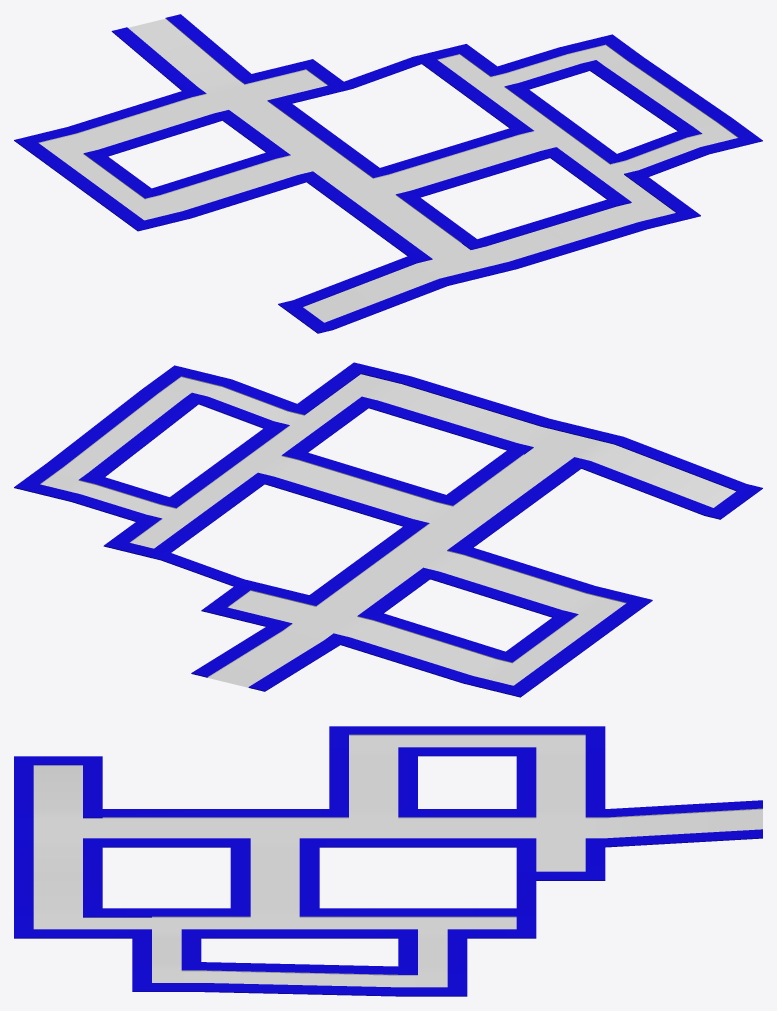
Rendered from Chao teste bake.fbx.
3 views of the same model, one above another, from view 1: azimuth 30°, elevation 25°; view 2: azimuth 150°, elevation 25°; view 3: azimuth 270°, elevation 25° (orthographic). The views are drawn at different scales.
Parts seen in each view (by area): view 1: Rua.002, Rua; view 2: Rua.002, Rua; view 3: Rua.002, Rua.
Part boxes in pixels (x1,y1,x2,y2): Rua.002: (38, 18, 738, 322); Rua: (14, 14, 762, 333); Rua.002: (40, 374, 735, 687); Rua: (14, 362, 762, 697); Rua.002: (33, 734, 762, 987); Rua: (14, 726, 762, 996).
Bounding box in the file's own units: 7000 × 410 × 7600.
